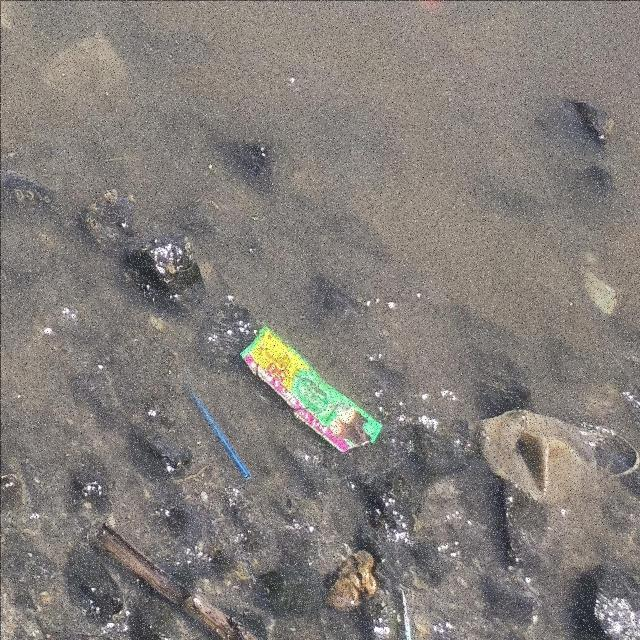plastic_waste: (240, 327, 383, 454), (189, 391, 252, 482)
